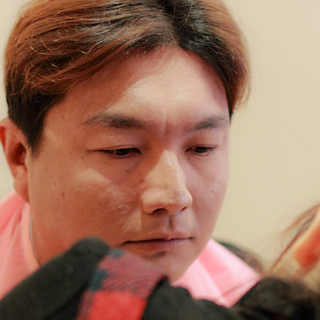eye: (96, 140, 148, 163), (179, 136, 222, 162)
